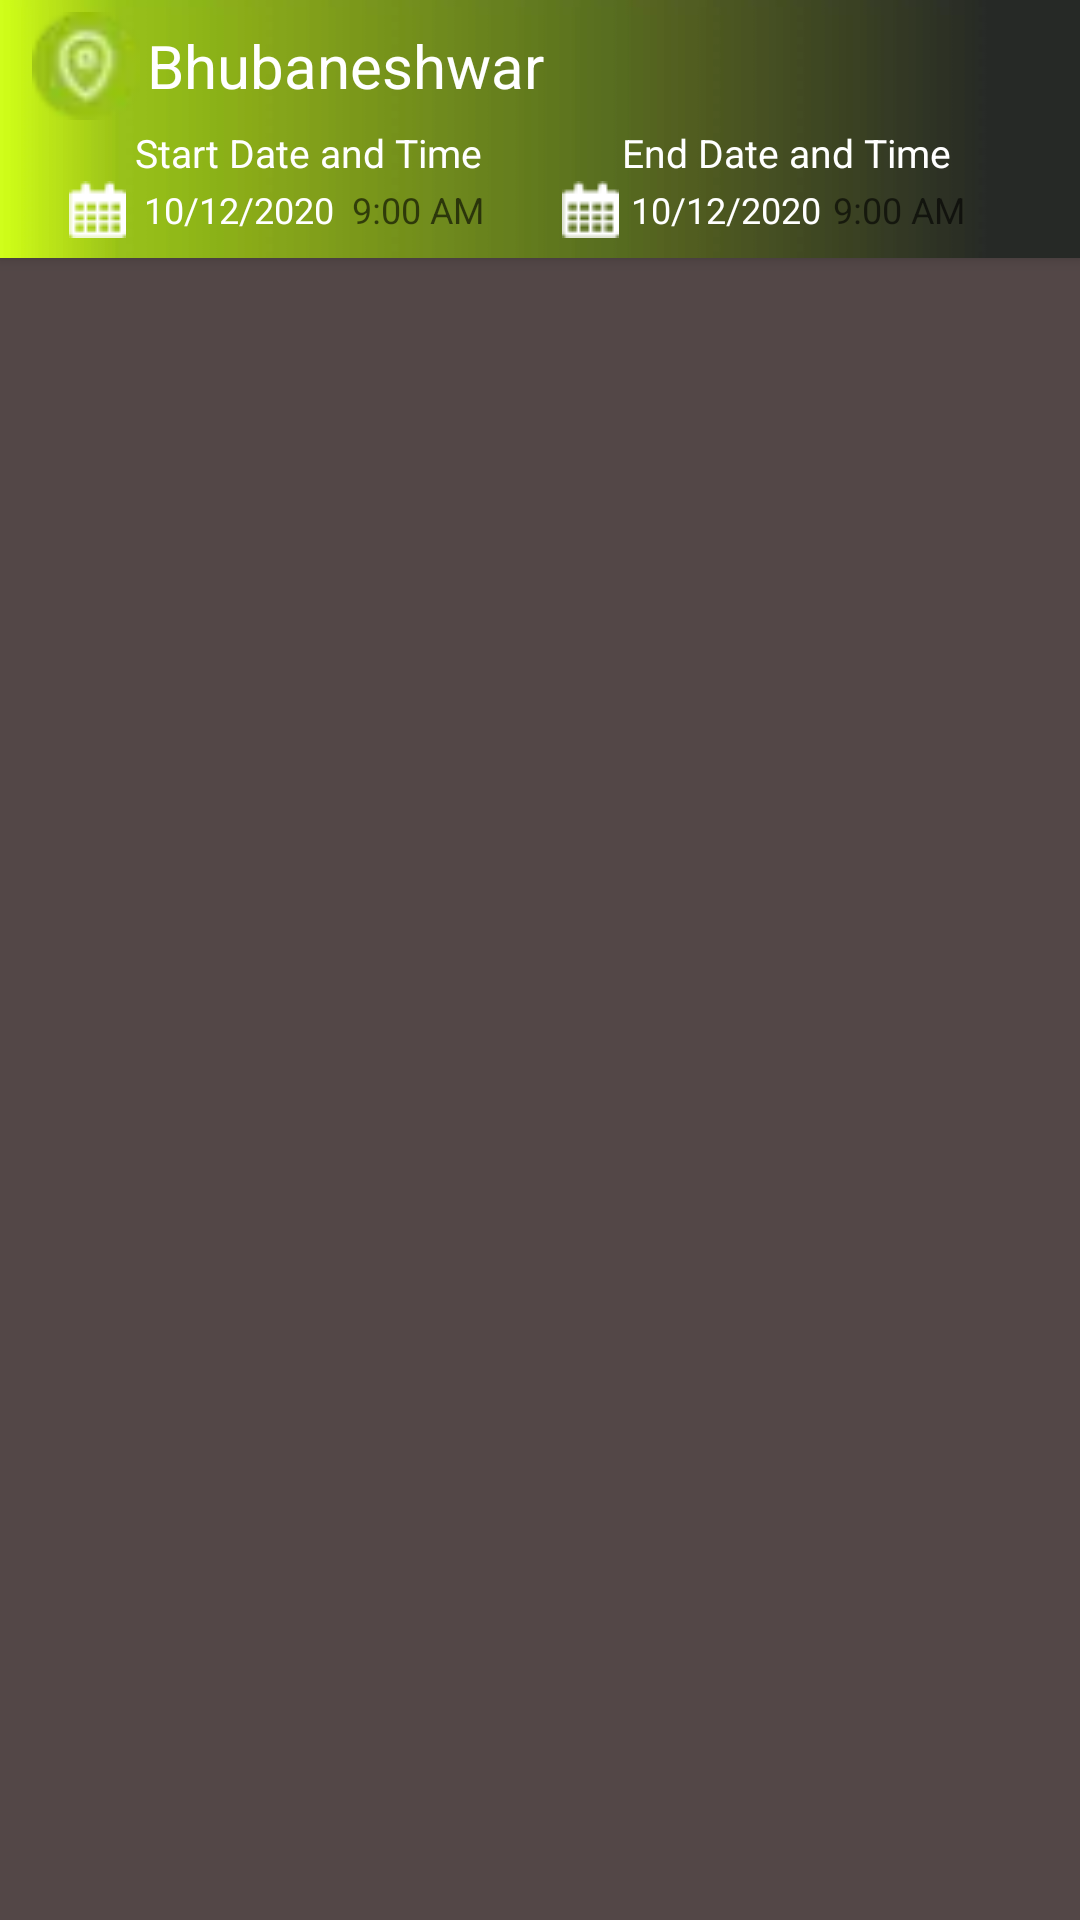

Point at icon controls on the screen. Image size 1080w x 1920h, points as (x=x, y=y).
calender: (x=97, y=209), (x=590, y=209)
location: (x=85, y=66)
